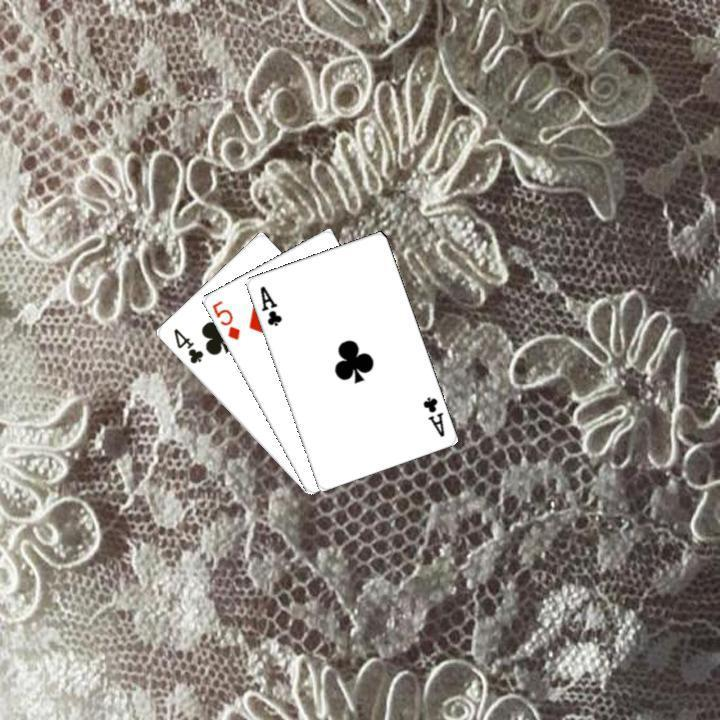4: (169, 324, 205, 366)
5: (207, 296, 242, 342)
A: (255, 281, 284, 328), (418, 392, 446, 439)
